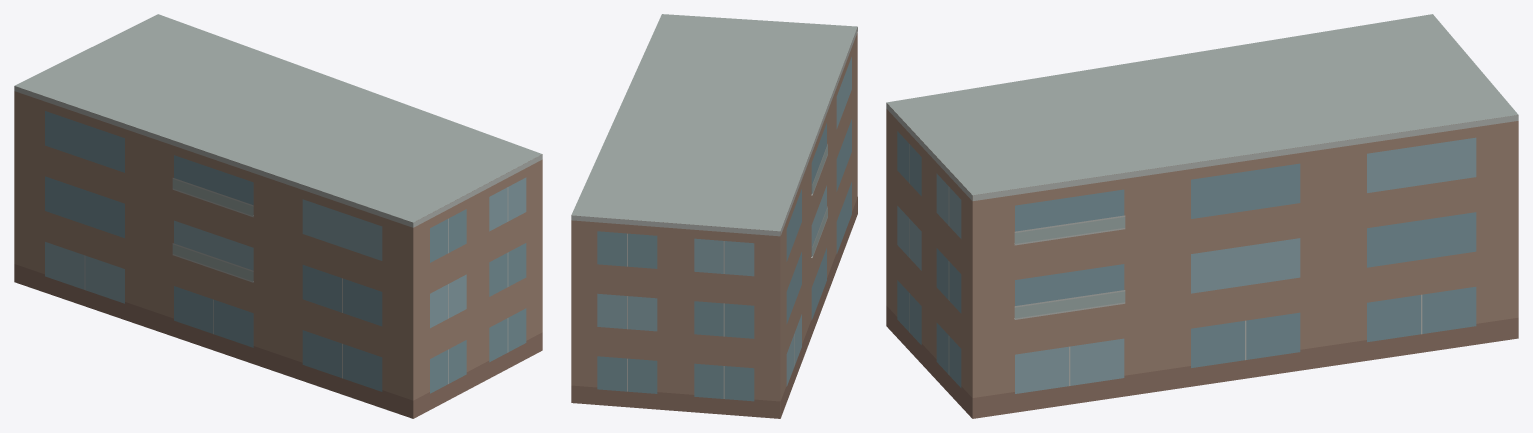
The model's file is survey-upis-32833515.glb.
3 renders of one model, left to right at view 1: azimuth 30°, elevation 25°; view 2: azimuth 150°, elevation 25°; view 3: azimuth 270°, elevation 25°, orthographic. The views are drawn at different scales.
Visible parts, largest first — view 1: survey-upis-32833515.tmp; view 2: survey-upis-32833515.tmp; view 3: survey-upis-32833515.tmp.
Boxes of the visible parts, box(x1,y1,x2,y2) form: survey-upis-32833515.tmp: box(14, 14, 542, 418); survey-upis-32833515.tmp: box(571, 14, 857, 418); survey-upis-32833515.tmp: box(886, 14, 1518, 418).
Size of the model in its own units: 15.92 by 9.15 by 23.46.
